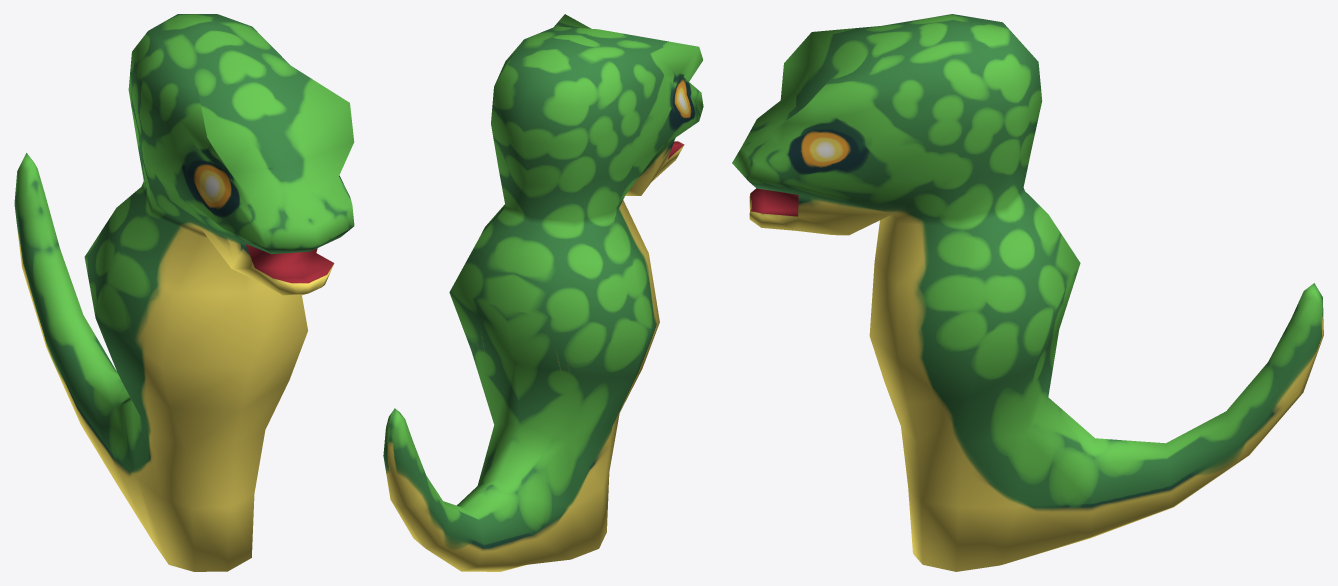
Rendered from badguy.glb.
3 renders of one model, left to right at view 1: azimuth 30°, elevation 25°; view 2: azimuth 150°, elevation 25°; view 3: azimuth 270°, elevation 25°, orthographic. The views are drawn at different scales.
Visible parts, largest first — view 1: badguy; view 2: badguy; view 3: badguy.
Boxes of the visible parts, bbox=[...] form: badguy: bbox=[14, 14, 354, 571]; badguy: bbox=[383, 14, 703, 571]; badguy: bbox=[732, 14, 1323, 571].
Size of the model in its own units: 1.59 by 4.05 by 4.07.
1 material, 1 textured.
